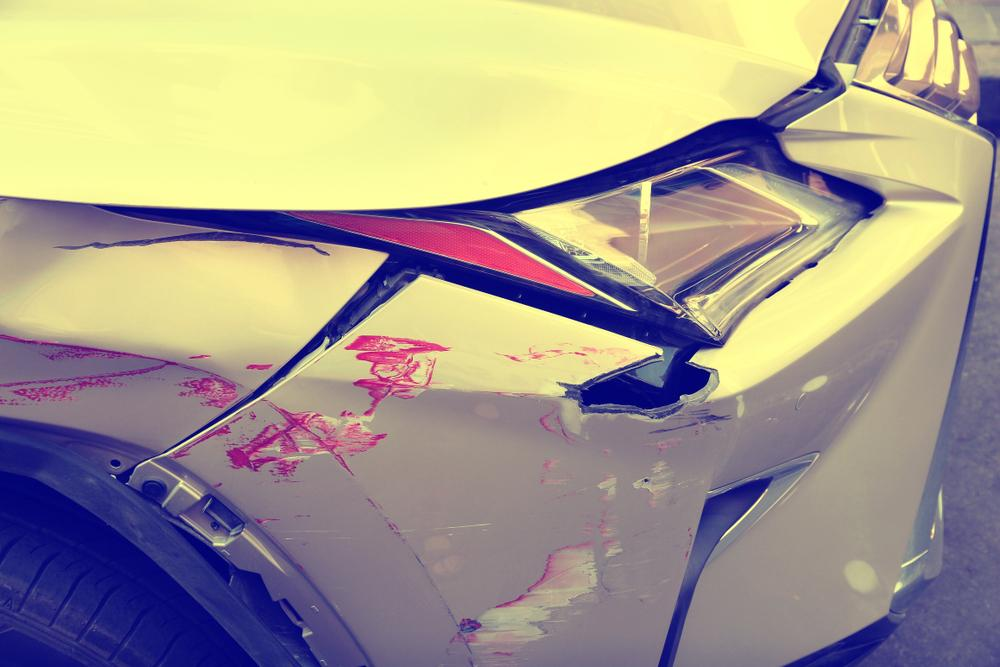crack: (578, 350, 717, 422)
scratch: (174, 324, 729, 667), (0, 329, 276, 418), (49, 228, 334, 259)
